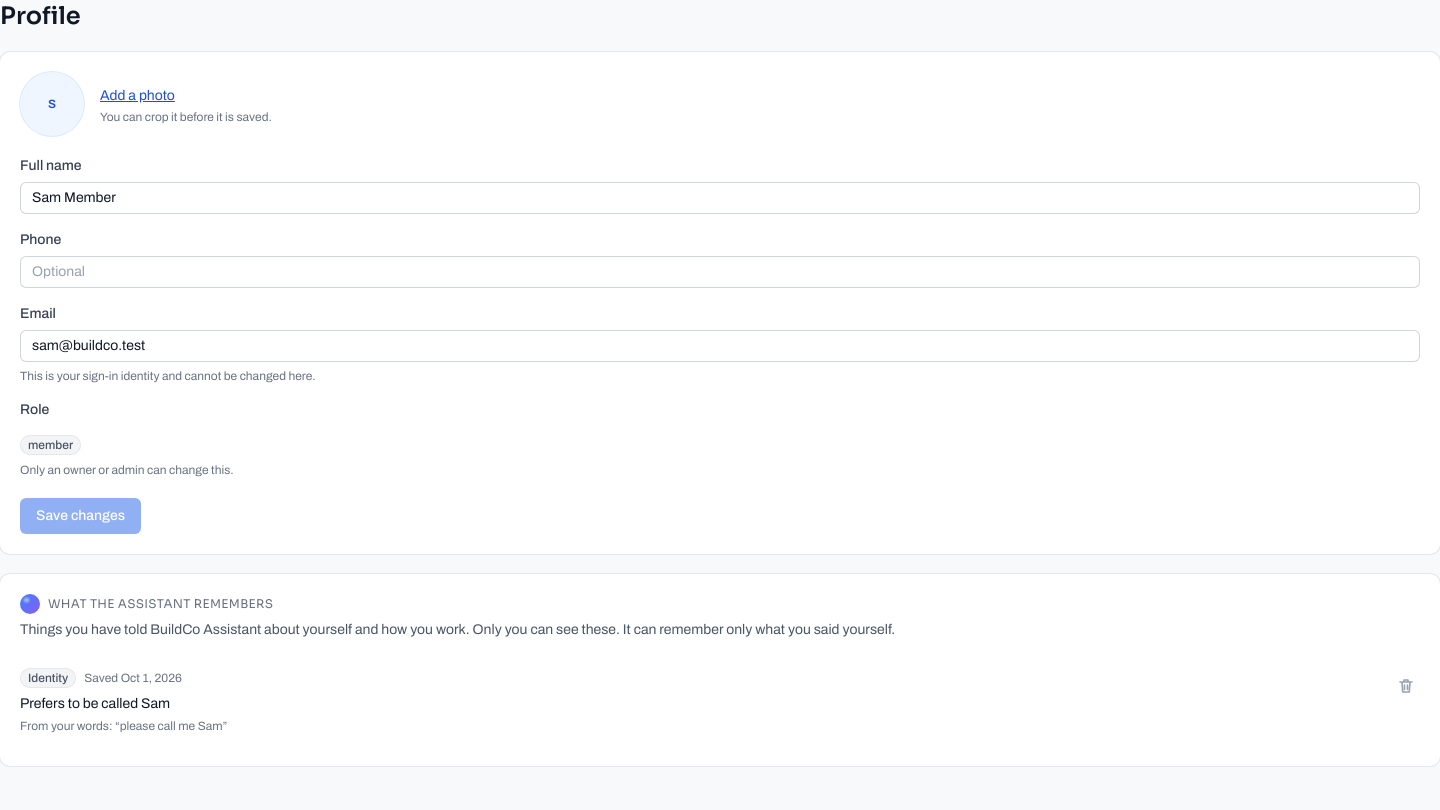
Test: what the assistant remembers › deletes one after asking, and it goes from the list
This screenshot has width=1440, height=810.
What coordinates should you click on to do the following:
click the button named "Delete memory: Prefers to be called Sam"
I would click on:
 (1406, 686)
Its box is [1384,664,1428,708].
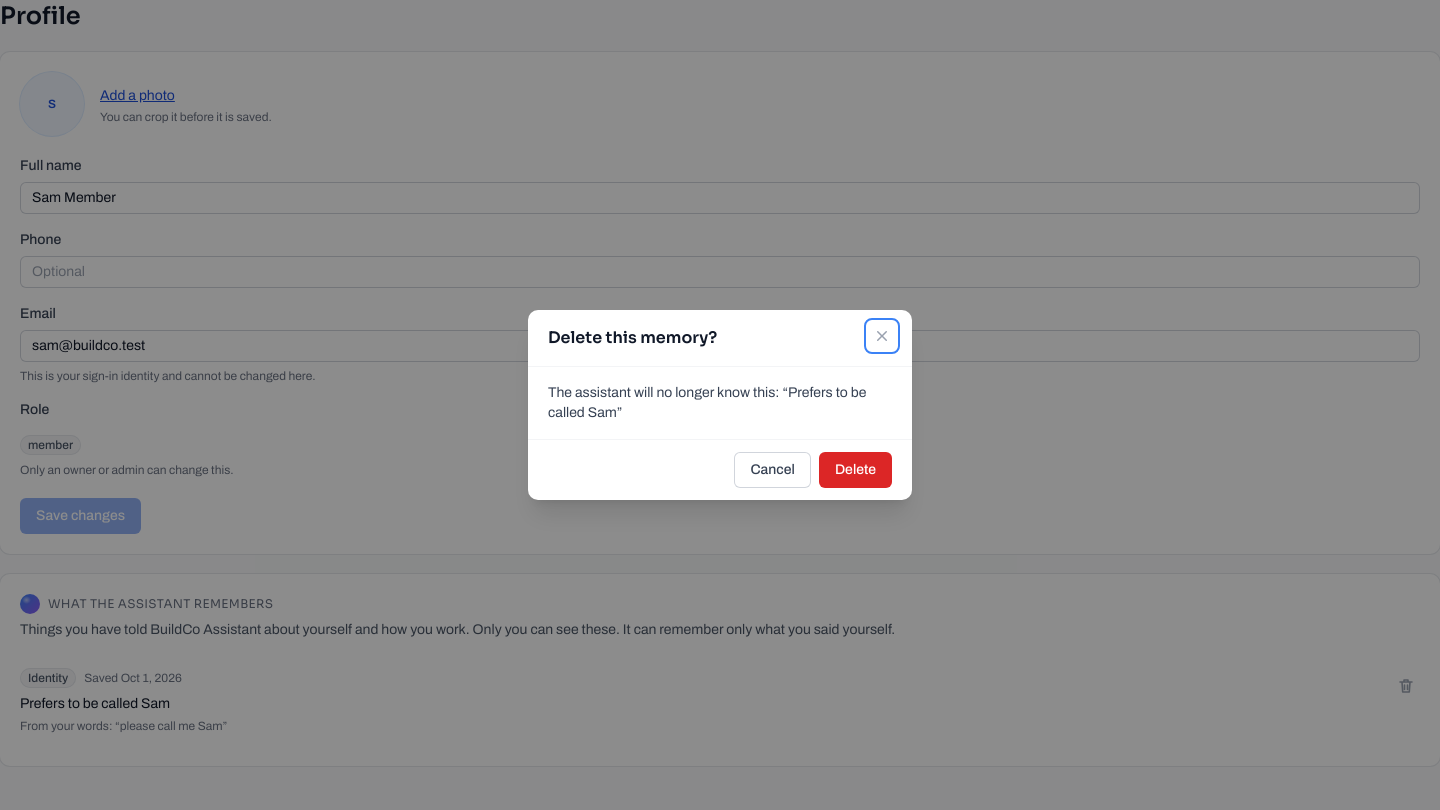
What coordinates should you click on to do the following:
click the button "Delete"
I would click on:
 (855, 470)
Its box is [819,452,892,488].
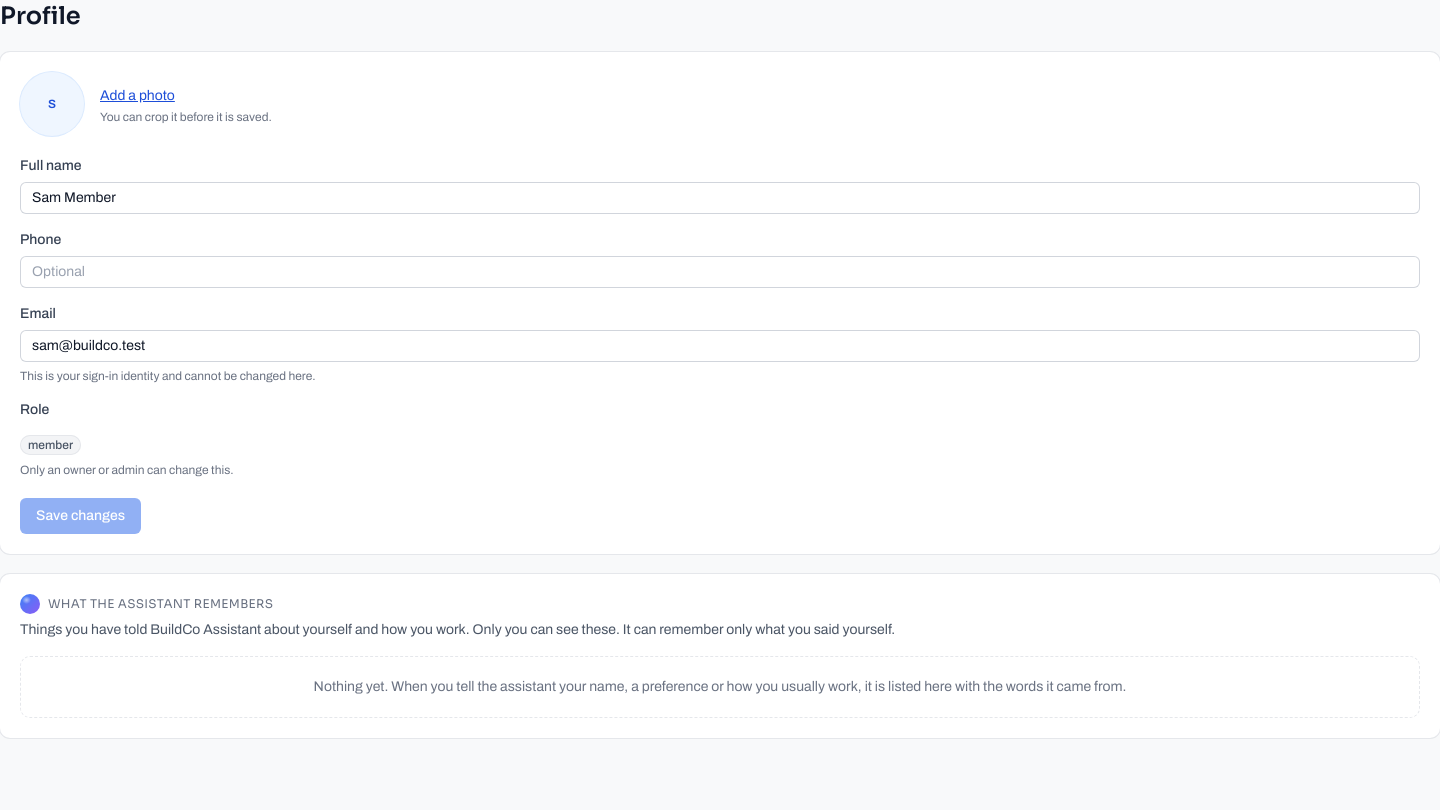
Check: the text "Prefers to be called Sam" is gone
